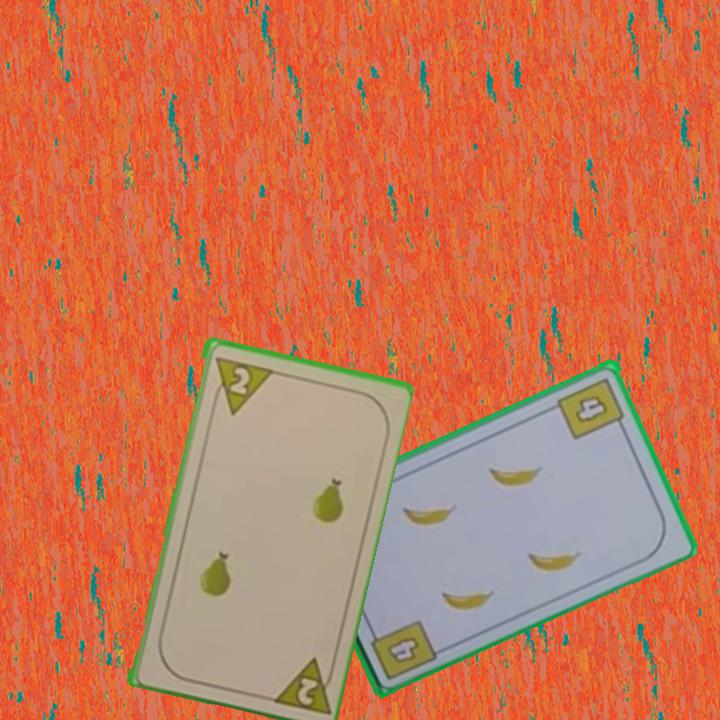2p: (265, 652, 338, 717), (224, 362, 253, 397)
4b: (554, 373, 629, 443), (382, 632, 423, 666)
